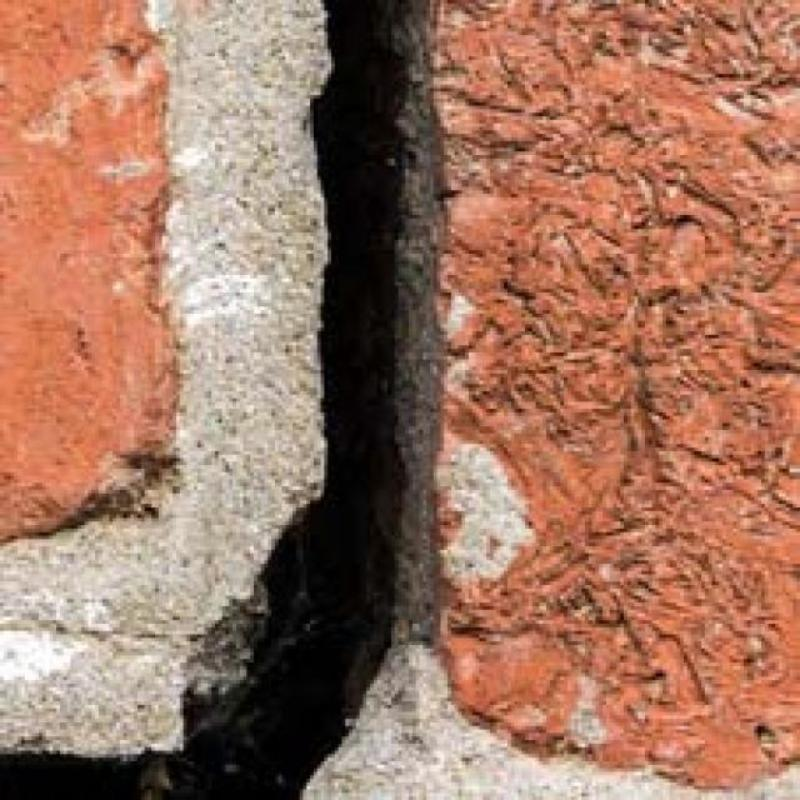crack: (0, 0, 423, 800)
